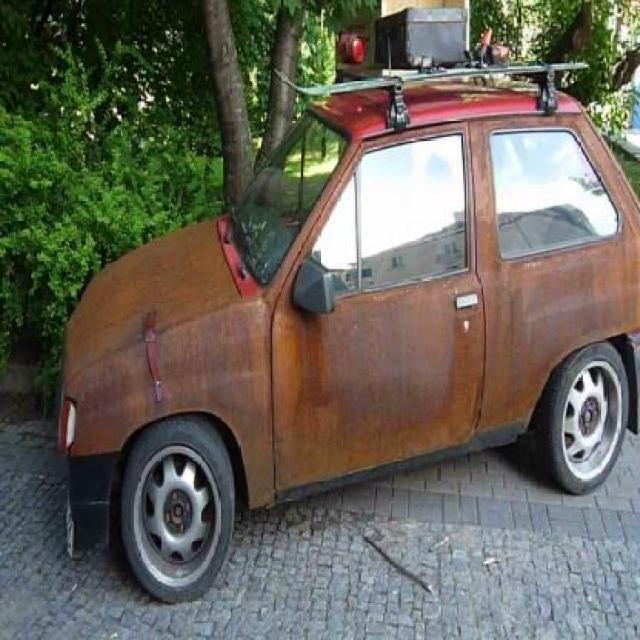corrosion: (66, 86, 640, 516)
